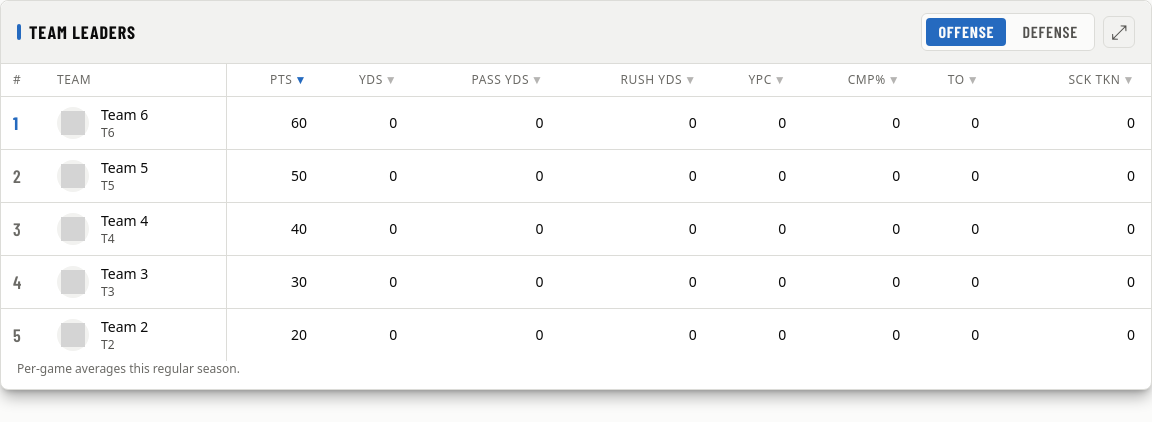
TeamLeadersPanel › tells sacks taken apart from sacks recorded
Expected: the column heading "SCK TKN ▼" is shown, [987,64,1151,96]
Click the button "Defense". click: (1050, 32)
box: [1010,18,1090,46]
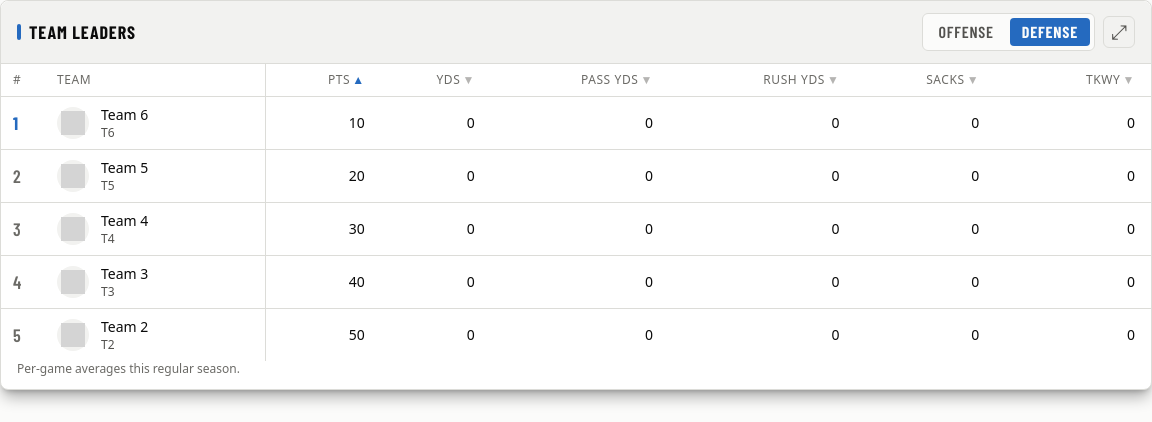
Now the column heading "SACKS ▼" is shown, box [848,64,987,96]
Now the button "SCK TKN" is gone
